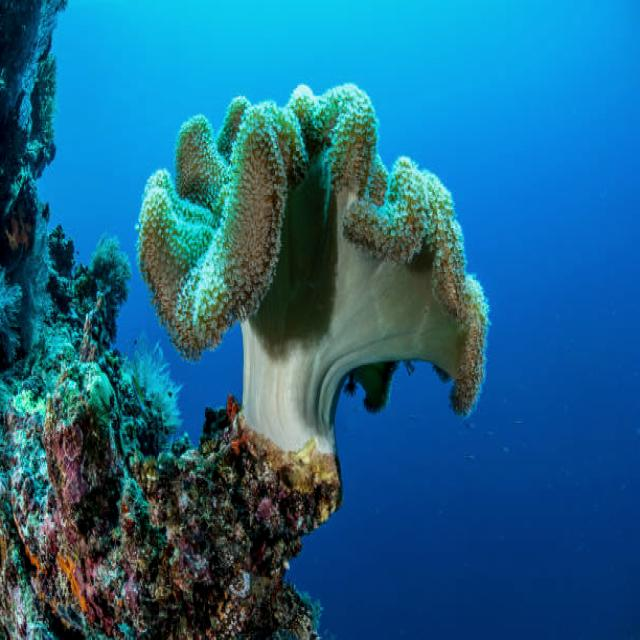Coral: (134, 80, 493, 452)
